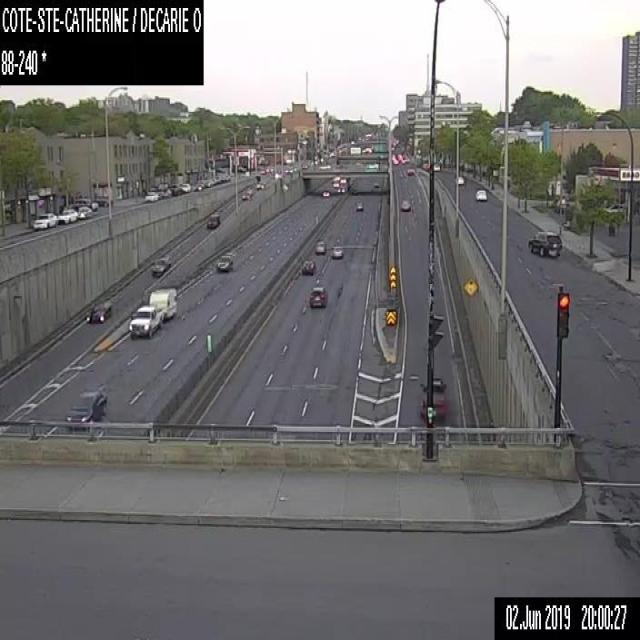vehicle: (128, 287, 176, 336), (64, 388, 106, 420), (419, 378, 447, 426), (527, 229, 561, 255), (86, 298, 112, 322), (32, 212, 56, 230), (308, 285, 326, 308), (152, 255, 170, 276), (216, 253, 233, 271), (57, 208, 77, 223), (206, 213, 219, 228), (77, 205, 91, 218), (302, 259, 314, 273), (145, 190, 157, 202), (170, 183, 181, 195), (332, 245, 342, 258), (475, 189, 486, 199), (400, 200, 410, 210), (316, 240, 324, 252), (240, 191, 250, 200), (160, 188, 170, 197), (181, 182, 190, 192), (193, 182, 203, 190), (256, 181, 265, 189), (421, 161, 428, 171), (454, 176, 463, 183), (368, 162, 378, 168), (407, 167, 414, 174), (355, 203, 363, 209), (318, 164, 329, 168), (433, 163, 439, 170), (337, 187, 345, 192), (322, 190, 328, 196), (340, 177, 347, 182), (225, 174, 230, 180), (373, 181, 378, 187), (332, 182, 338, 186), (334, 176, 339, 180)
